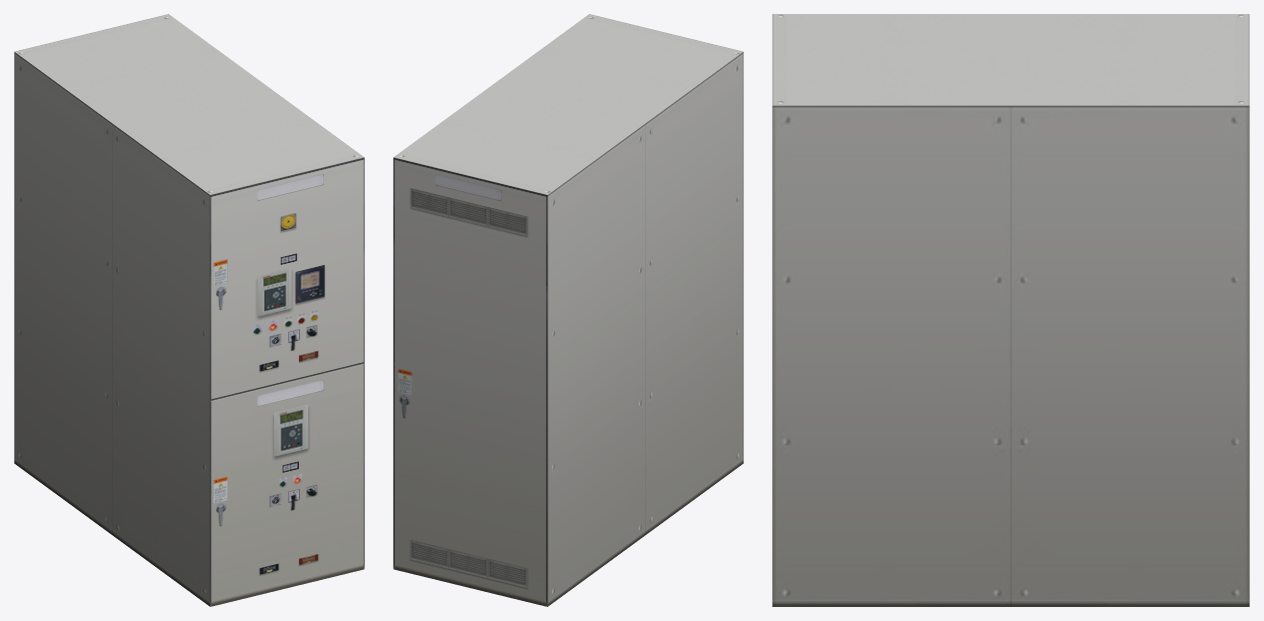
3 renders of one model, left to right at view 1: azimuth 30°, elevation 25°; view 2: azimuth 150°, elevation 25°; view 3: azimuth 270°, elevation 25°, orthographic. The views are drawn at different scales.
Parts seen in each view (by area): view 1: LV-2J7; view 2: LV-2J7; view 3: LV-2J7.
Part boxes in pixels (bbox=[...]): LV-2J7: bbox=[14, 14, 364, 606]; LV-2J7: bbox=[393, 14, 743, 606]; LV-2J7: bbox=[772, 14, 1249, 606].
Size of the model in its own units: 1 by 2.55 by 2.2.
Materials: 1 (1 with a texture image).
